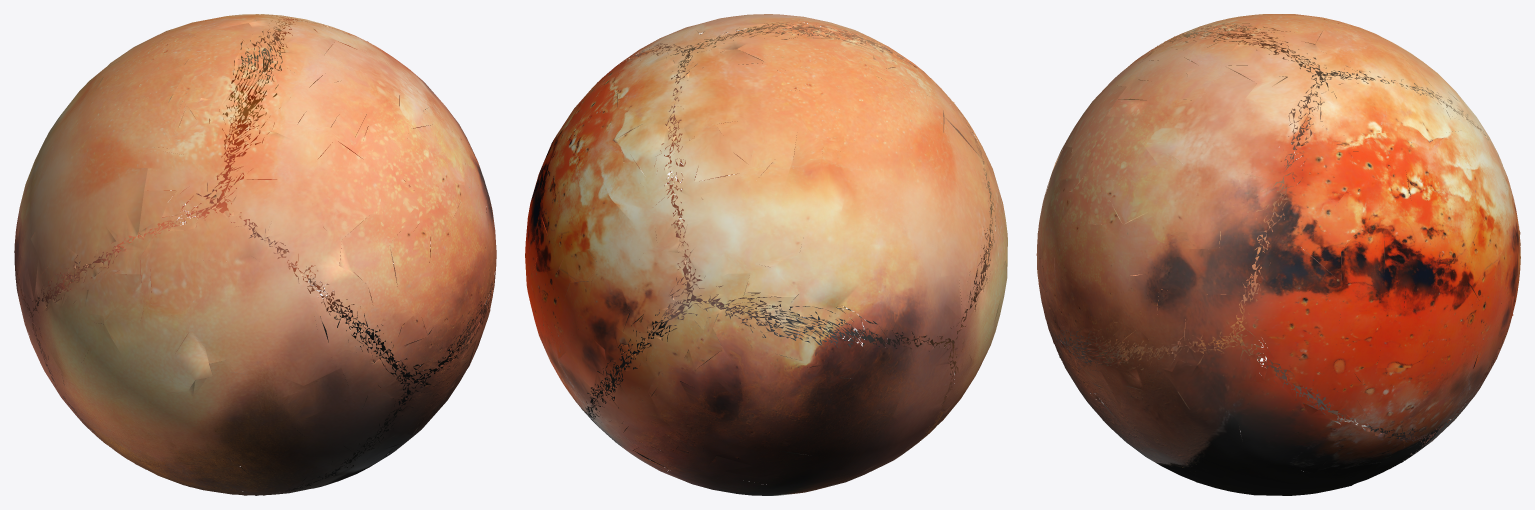
Rendered from Mars.glb.
3 renders of one model, left to right at view 1: azimuth 30°, elevation 25°; view 2: azimuth 150°, elevation 25°; view 3: azimuth 270°, elevation 25°, orthographic.
Parts seen in each view (by area): view 1: Mesh_0.005; view 2: Mesh_0.005; view 3: Mesh_0.005.
Boxes of the visible parts, <box> form: Mesh_0.005: <box>14,14,496,495</box>; Mesh_0.005: <box>525,14,1007,495</box>; Mesh_0.005: <box>1036,14,1520,495</box>.
Bounding box in the file's own units: 2 × 2 × 2.01.
Materials: 1 (1 with a texture image).
